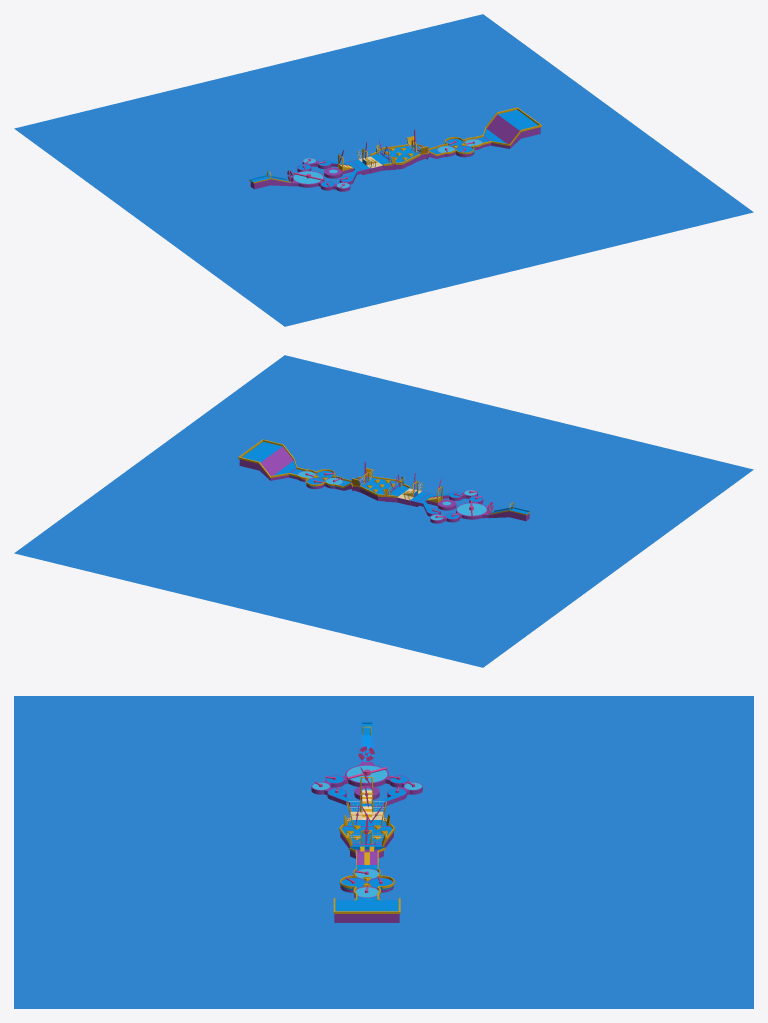
Rendered from fall guys map revisi 4.fbx.
3 renders of one model, top to bottom at view 1: azimuth 30°, elevation 25°; view 2: azimuth 150°, elevation 25°; view 3: azimuth 270°, elevation 25°, orthographic. The views are drawn at different scales.
Parts seen in each view (by area): view 1: Plane.001, Cube, Cube.016, Cube.030; view 2: Plane.001, Cube, Cube.016, Cube.030; view 3: Plane.001, Cube, Cube.016, Cube.030.
Boxes of the visible parts, bbox=[...] form: Plane.001: bbox=[14, 14, 753, 326]; Cube: bbox=[249, 110, 538, 188]; Cube.016: bbox=[250, 114, 540, 191]; Cube.030: bbox=[417, 107, 541, 155]; Plane.001: bbox=[14, 355, 753, 667]; Cube: bbox=[242, 441, 530, 520]; Cube.016: bbox=[239, 446, 529, 523]; Cube.030: bbox=[238, 439, 363, 488]; Plane.001: bbox=[14, 696, 753, 1008]; Cube: bbox=[311, 722, 422, 911]; Cube.016: bbox=[311, 760, 422, 922]; Cube.030: bbox=[333, 847, 400, 913].
Size of what is drawn, in the model's own units: 9317 by 753 by 9317.
